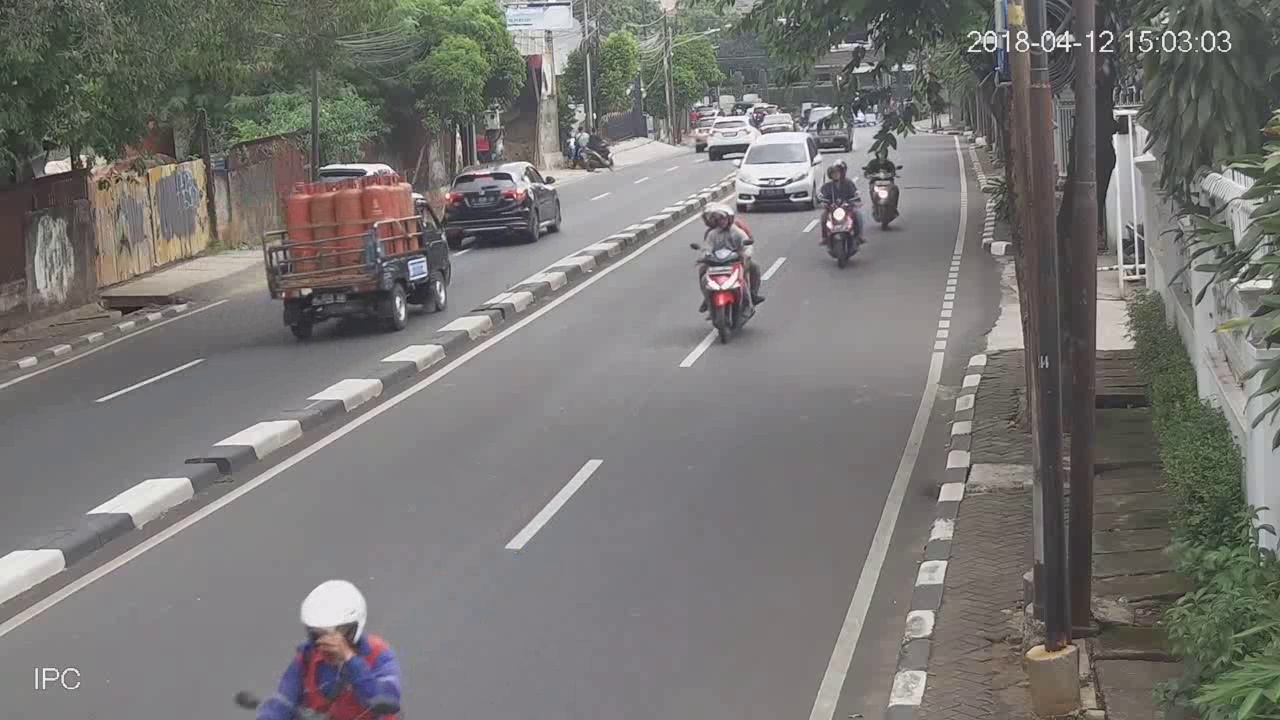car: (443, 158, 564, 247), (738, 130, 822, 214)
motorcycle: (695, 200, 769, 349), (812, 158, 868, 269), (865, 149, 908, 235)
truck: (260, 178, 450, 335)
